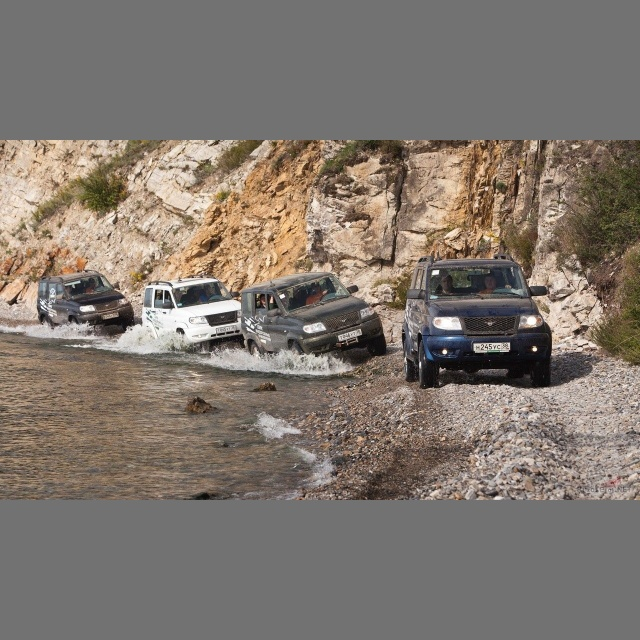Внедорожник: (407, 261, 553, 377), (247, 276, 386, 361), (143, 278, 242, 348), (37, 272, 131, 335)
